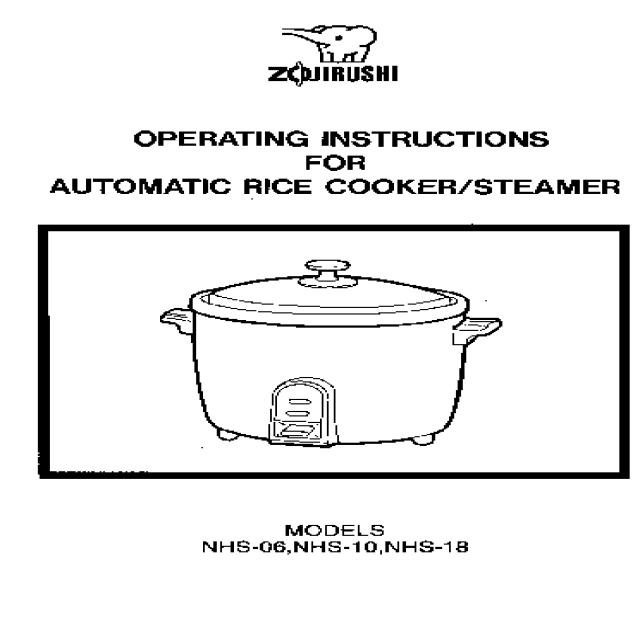appliances: (160, 259, 499, 445)
